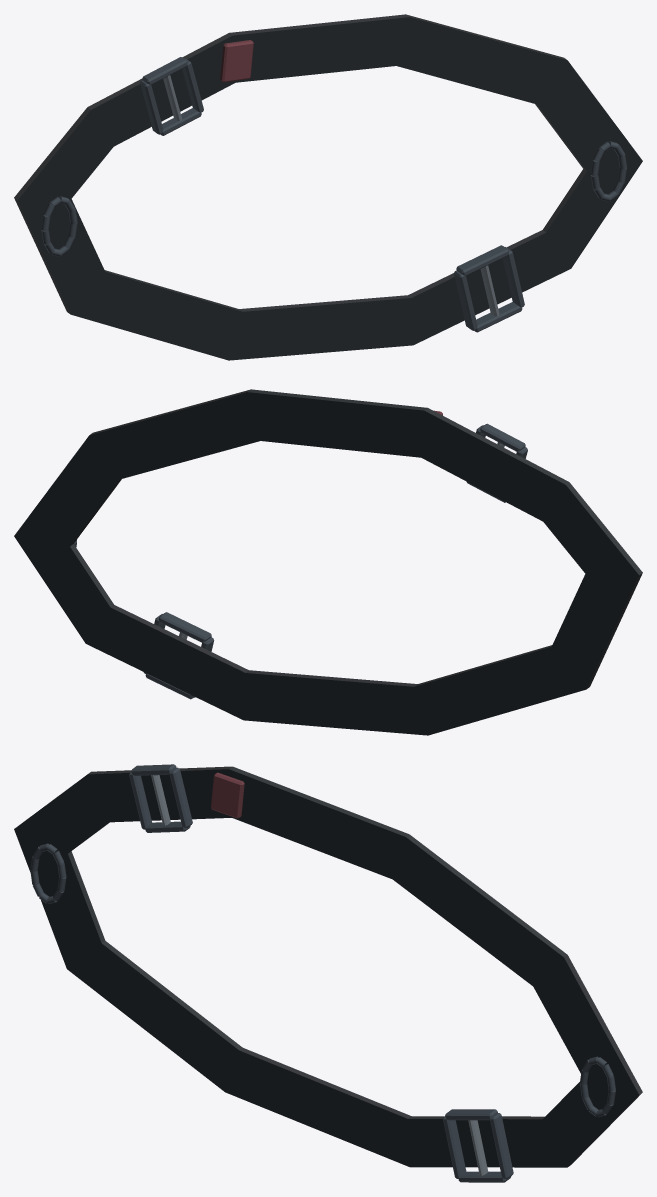
File: rifle-sling.glb
3 views of the same model, one above another, from view 1: azimuth 30°, elevation 25°; view 2: azimuth 150°, elevation 25°; view 3: azimuth 330°, elevation 25° (orthographic).
Parts seen in each view (by area): view 1: rifle-sling; view 2: rifle-sling; view 3: rifle-sling.
Part boxes in pixels (bbox=[...]): rifle-sling: bbox=[14, 14, 642, 360]; rifle-sling: bbox=[14, 389, 642, 735]; rifle-sling: bbox=[14, 764, 642, 1182].
Bounding box in the file's own units: 0.3892 × 0.2105 × 0.012.
